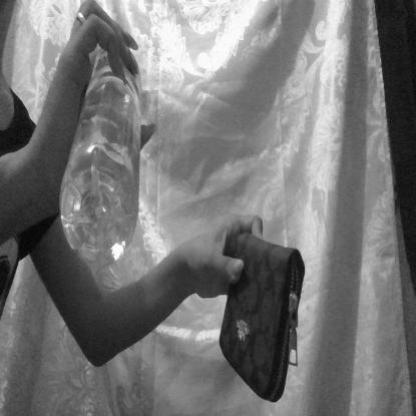Plastic Bottle: (49, 34, 153, 275)
